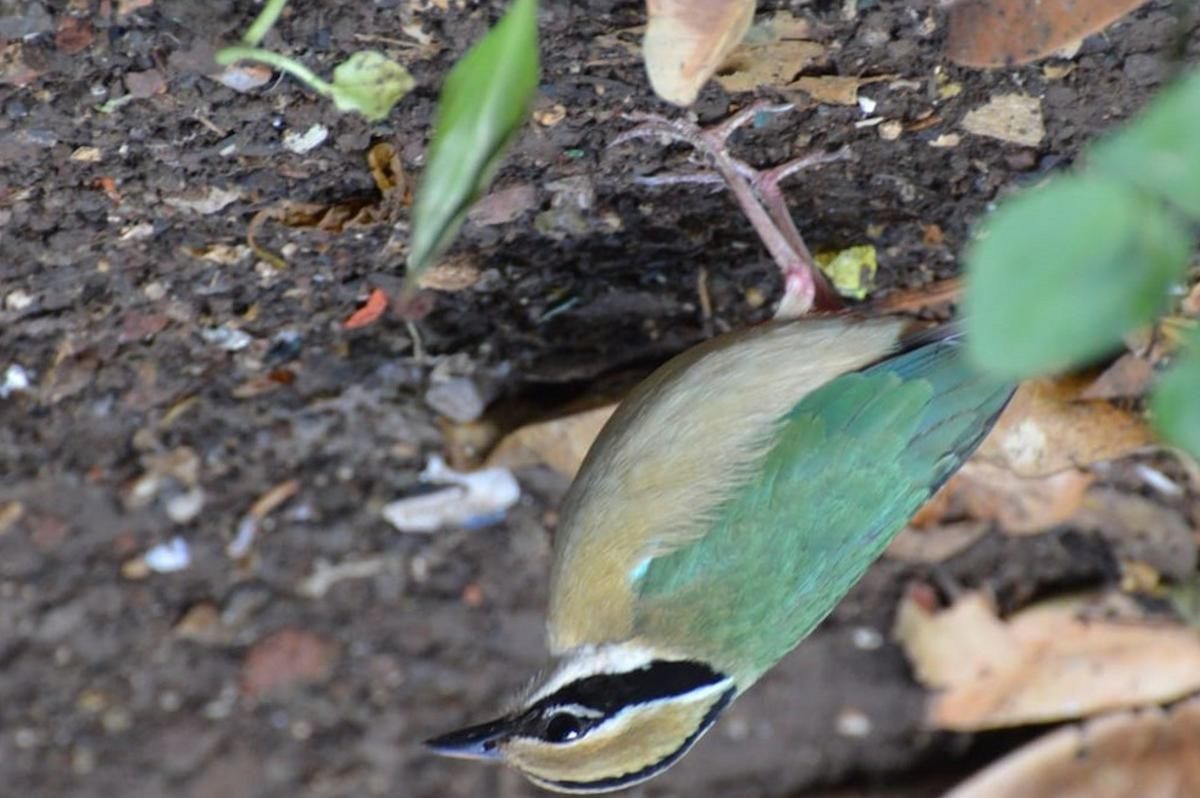pitta: (406, 247, 1010, 786)
